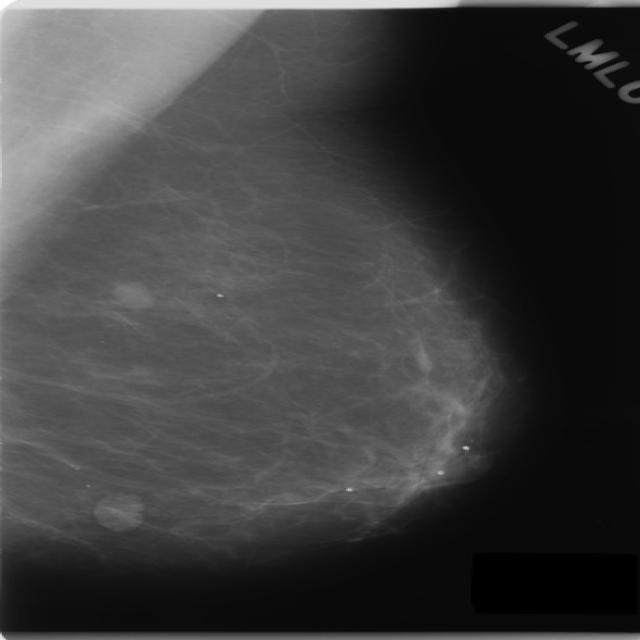tumour: (108, 278, 154, 310)
